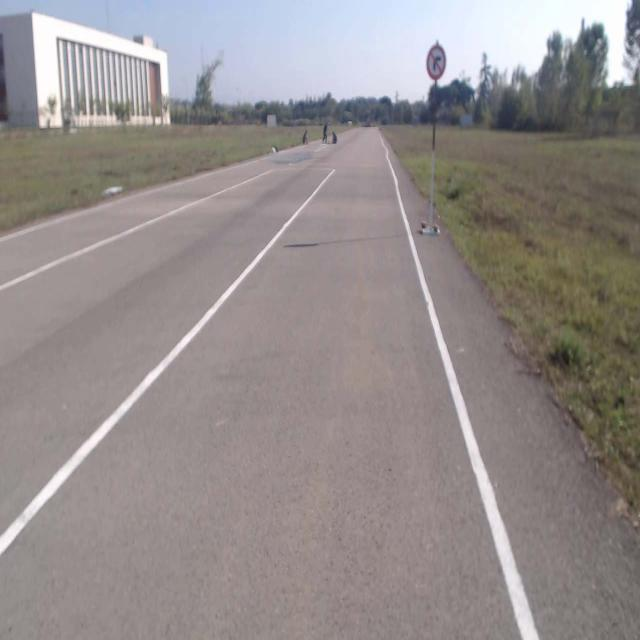sagadonulmez: (427, 46, 446, 78)
